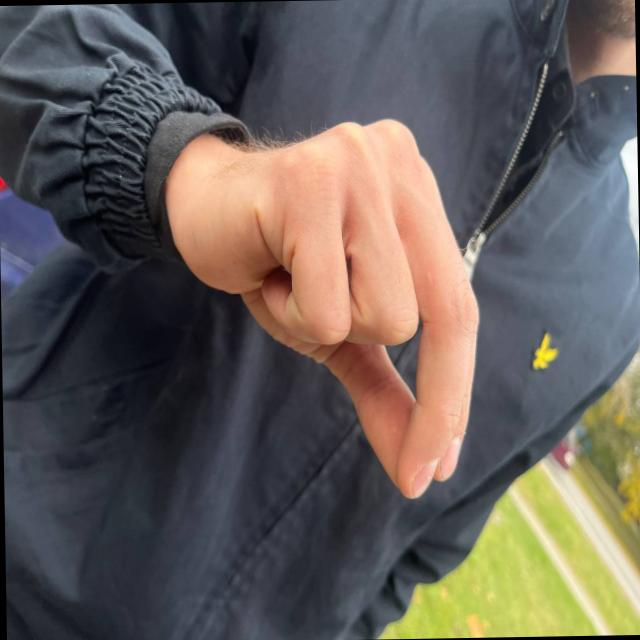ch: (217, 111, 480, 501)
